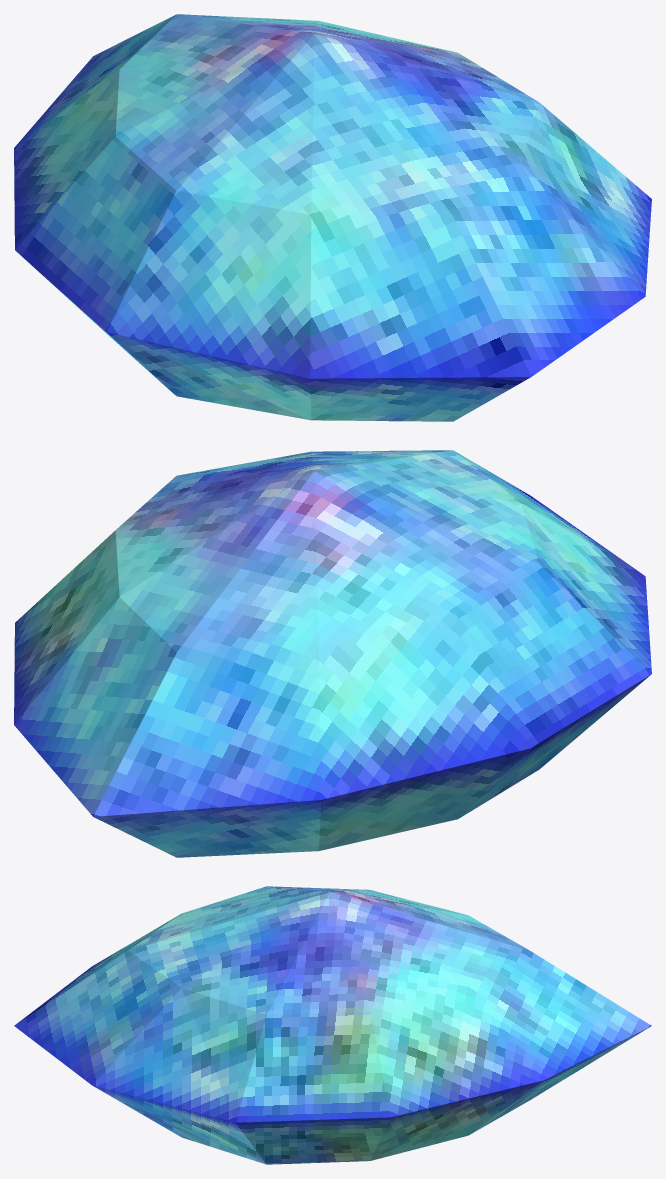
File: jos.glb
3 views of the same model, one above another, from view 1: azimuth 30°, elevation 25°; view 2: azimuth 150°, elevation 25°; view 3: azimuth 270°, elevation 25° (orthographic). The views are drawn at different scales.
Visible parts, largest first — view 1: model_jos; view 2: model_jos; view 3: model_jos.
Boxes of the visible parts, x1,y1,x2,y2 form: model_jos: (14, 14, 651, 421); model_jos: (14, 450, 651, 857); model_jos: (14, 886, 651, 1164).
Size of the model in its own units: 0.1481 by 0.0954 by 0.2061.
Materials: 1 (1 with a texture image).
